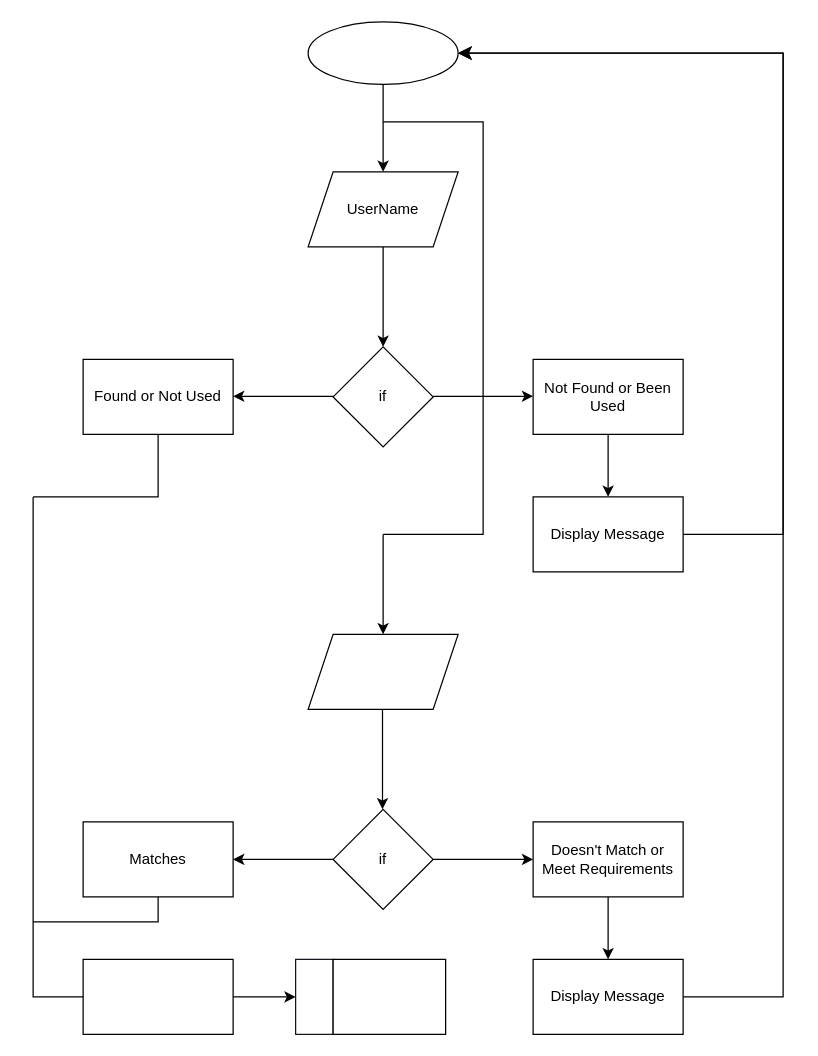
Some shapes in this 818 by 1056 pixel diagram are drawn without their labels. The box of each missing label's shape, as (x1, y1, x2, y2) in pixels:
Logs Login: (82, 958, 233, 1034)
Opens PayRoll Form: (332, 958, 446, 1034)
PassWord: (307, 633, 458, 709)
Start: (307, 21, 458, 84)
